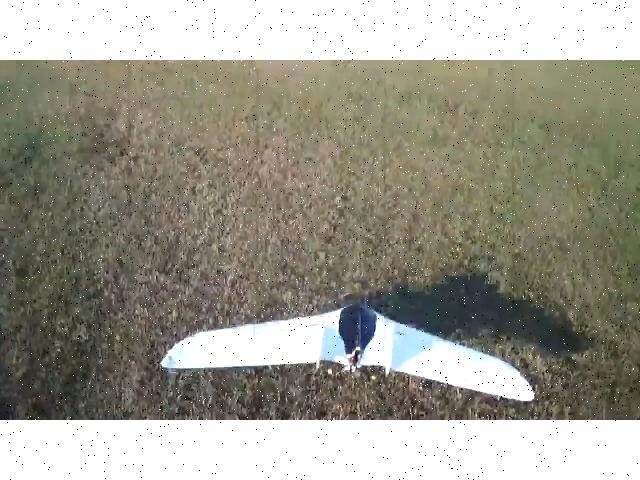Anti-Drone: (153, 291, 551, 411)
